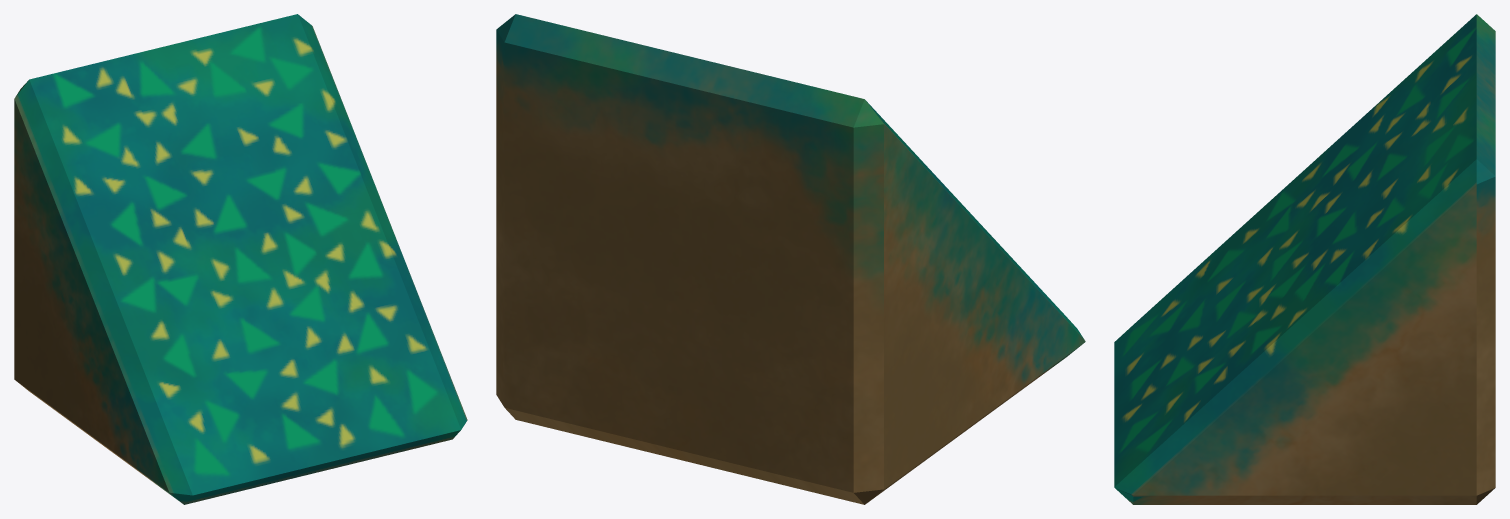
Rendered from grass_slope_block(1).fbx.
3 renders of one model, left to right at view 1: azimuth 30°, elevation 25°; view 2: azimuth 150°, elevation 25°; view 3: azimuth 270°, elevation 25°, orthographic. The views are drawn at different scales.
Visible parts, largest first — view 1: grass_slope_block; view 2: grass_slope_block; view 3: grass_slope_block.
Part boxes in pixels (x1,y1,x2,y2): grass_slope_block: [14, 14, 467, 504]; grass_slope_block: [496, 14, 1085, 504]; grass_slope_block: [1114, 14, 1495, 504].
Size of the model in its own units: 10 by 10 by 10.
1 material, 1 textured.
